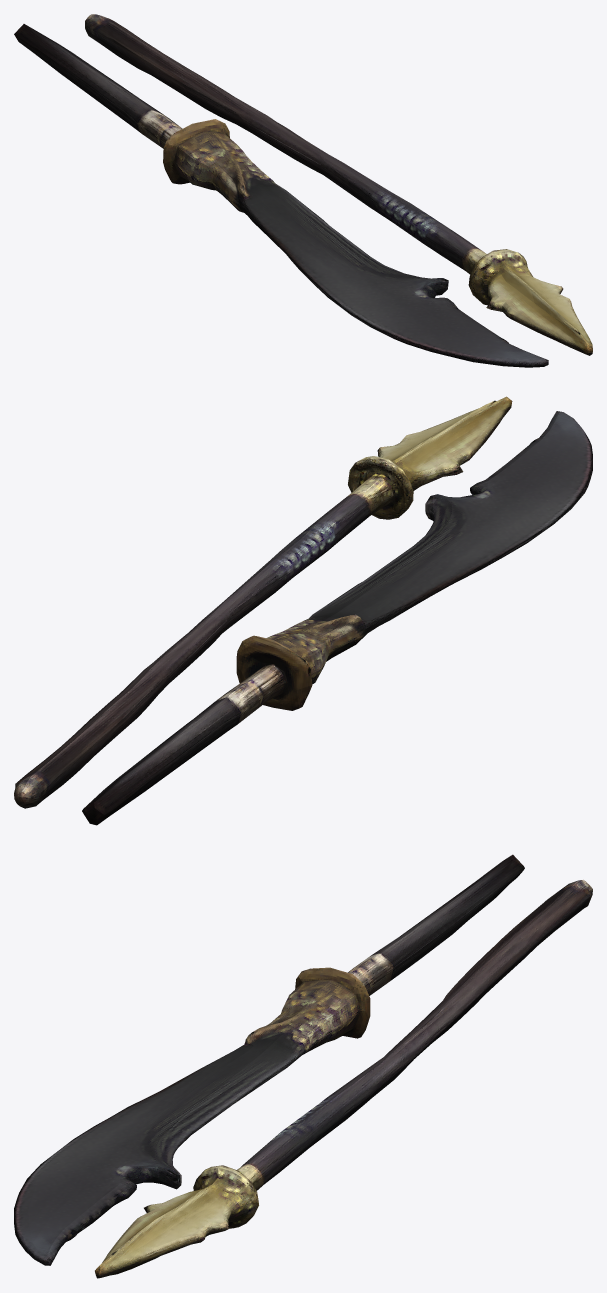
3 renders of one model, top to bottom at view 1: azimuth 30°, elevation 25°; view 2: azimuth 150°, elevation 25°; view 3: azimuth 330°, elevation 25°, orthographic. The views are drawn at different scales.
Parts seen in each view (by area): view 1: world; view 2: world; view 3: world.
Boxes of the visible parts, left/top/right/bottom form: world: left=14, top=14, right=592, bottom=367; world: left=14, top=396, right=592, bottom=825; world: left=14, top=854, right=592, bottom=1278.
Bounding box in the file's own units: 0.2279 × 0.0719 × 1.
Materials: 1 (1 with a texture image).
